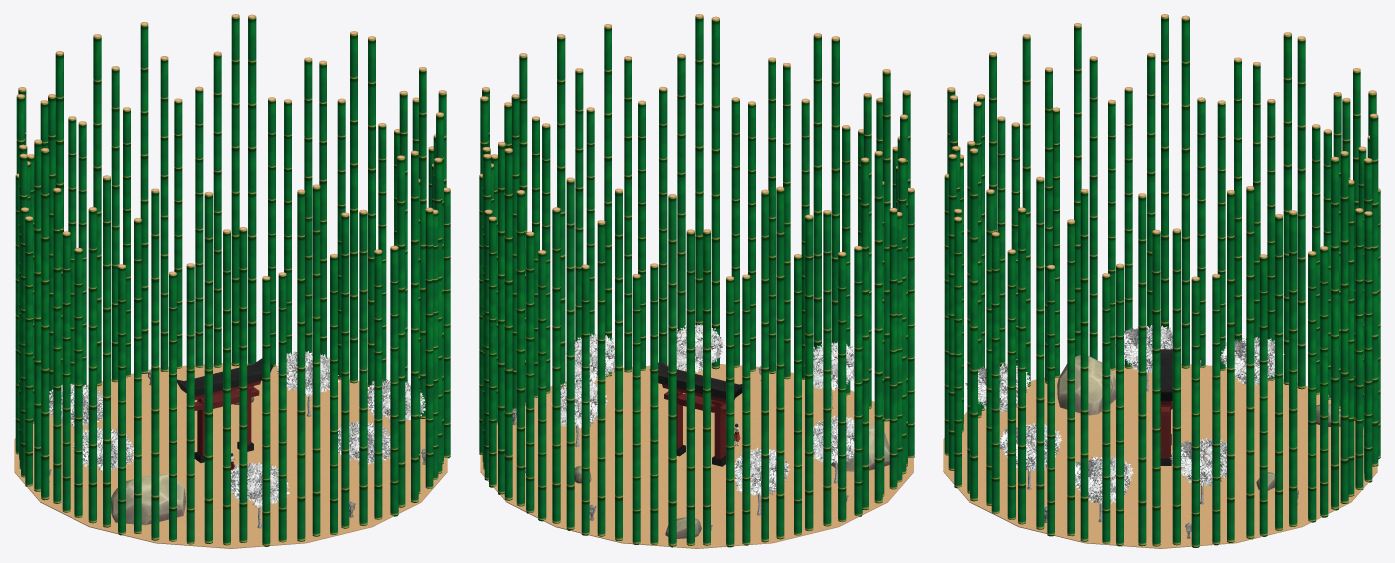
The model's file is Escenario Bambú.fbx.
3 views of the same model, side by side, from view 1: azimuth 30°, elevation 25°; view 2: azimuth 150°, elevation 25°; view 3: azimuth 270°, elevation 25° (orthographic).
Visible parts, largest first — view 1: BAMBULOW188, Suelo001, Hojas_05, ArcoJapones, Roca_00; view 2: BAMBULOW188, Suelo001, Hojas_05, ArcoJapones, Roca_00; view 3: BAMBULOW188, Suelo001, Hojas_05, Roca_00, ArcoJapones.
Boxes of the visible parts, left/top/right/bottom form: BAMBULOW188: left=15, top=14, right=450, bottom=546; Suelo001: left=14, top=362, right=447, bottom=548; Hojas_05: left=49, top=351, right=425, bottom=508; ArcoJapones: left=177, top=358, right=273, bottom=462; Roca_00: left=111, top=474, right=185, bottom=525; BAMBULOW188: left=479, top=14, right=914, bottom=547; Suelo001: left=480, top=364, right=913, bottom=548; Hojas_05: left=551, top=324, right=854, bottom=495; ArcoJapones: left=649, top=361, right=742, bottom=466; Roca_00: left=813, top=423, right=889, bottom=471; BAMBULOW188: left=944, top=14, right=1380, bottom=547; Suelo001: left=943, top=363, right=1377, bottom=548; Hojas_05: left=965, top=325, right=1284, bottom=503; Roca_00: left=1057, top=355, right=1115, bottom=415; ArcoJapones: left=1160, top=349, right=1172, bottom=465.
Bounding box in the file's own units: 3205 × 2839 × 3177.
